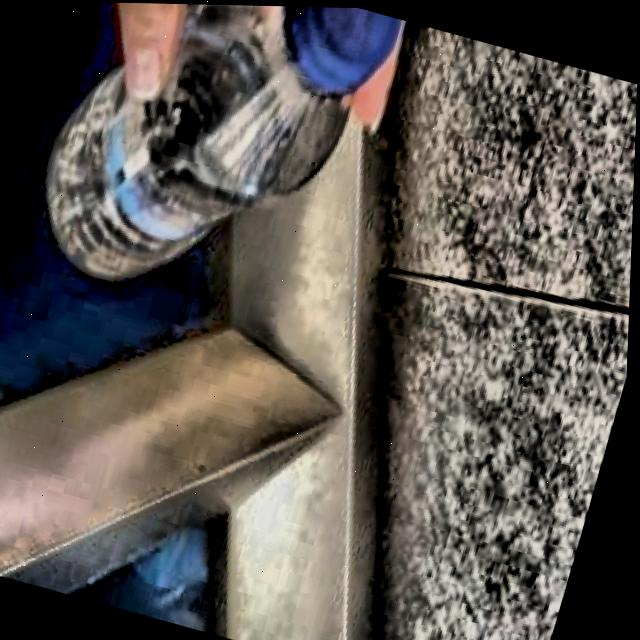plastic: (46, 3, 397, 278)
